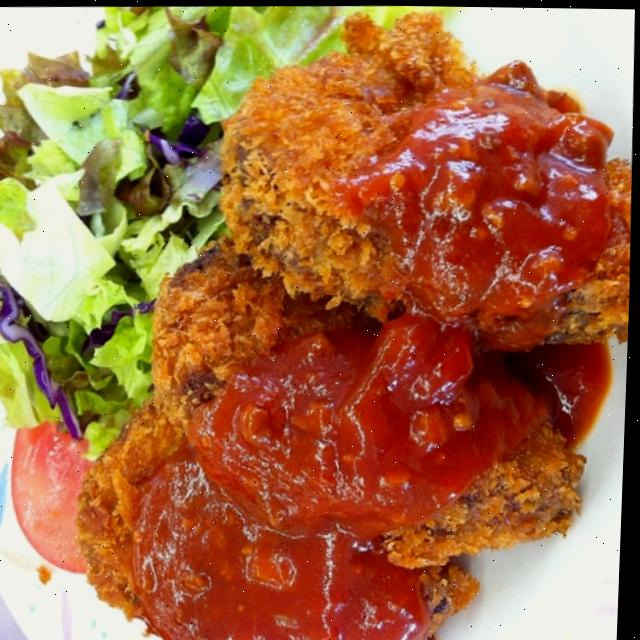炸货点心: (0, 2, 636, 640)
